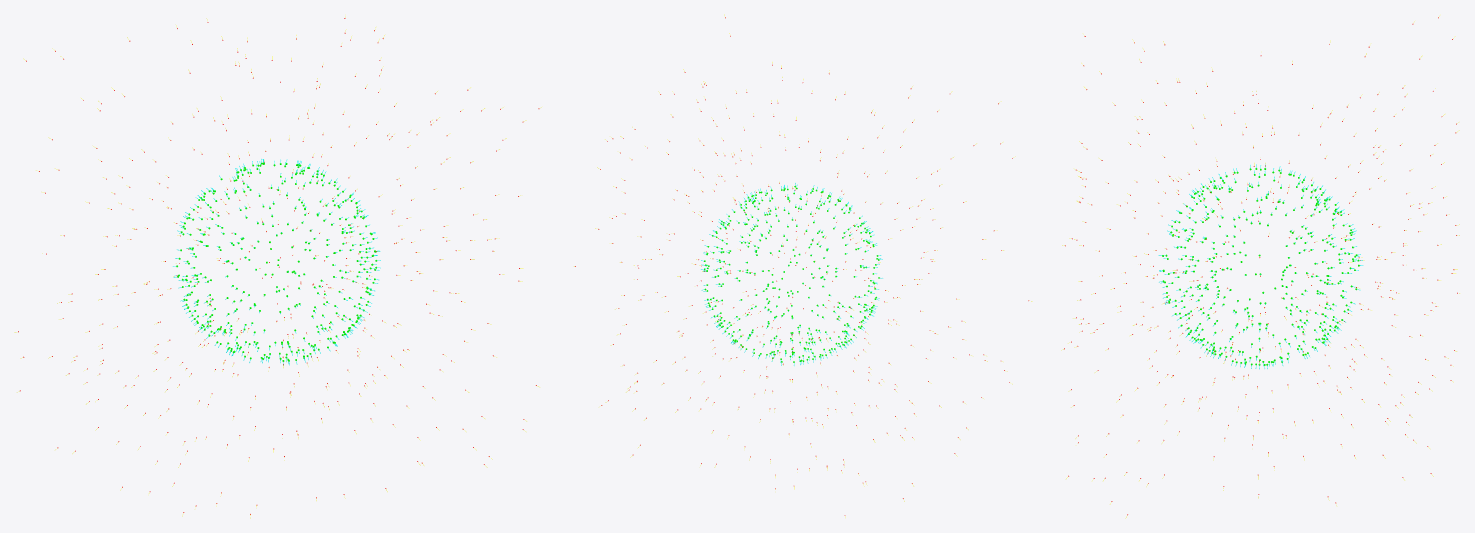
The model's file is surface_points sphere-3D.gltf.
3 renders of one model, left to right at view 1: azimuth 30°, elevation 25°; view 2: azimuth 150°, elevation 25°; view 3: azimuth 270°, elevation 25°, orthographic. The views are drawn at different scales.
Bounding box in the file's own units: 4.08 × 4.06 × 4.06.
